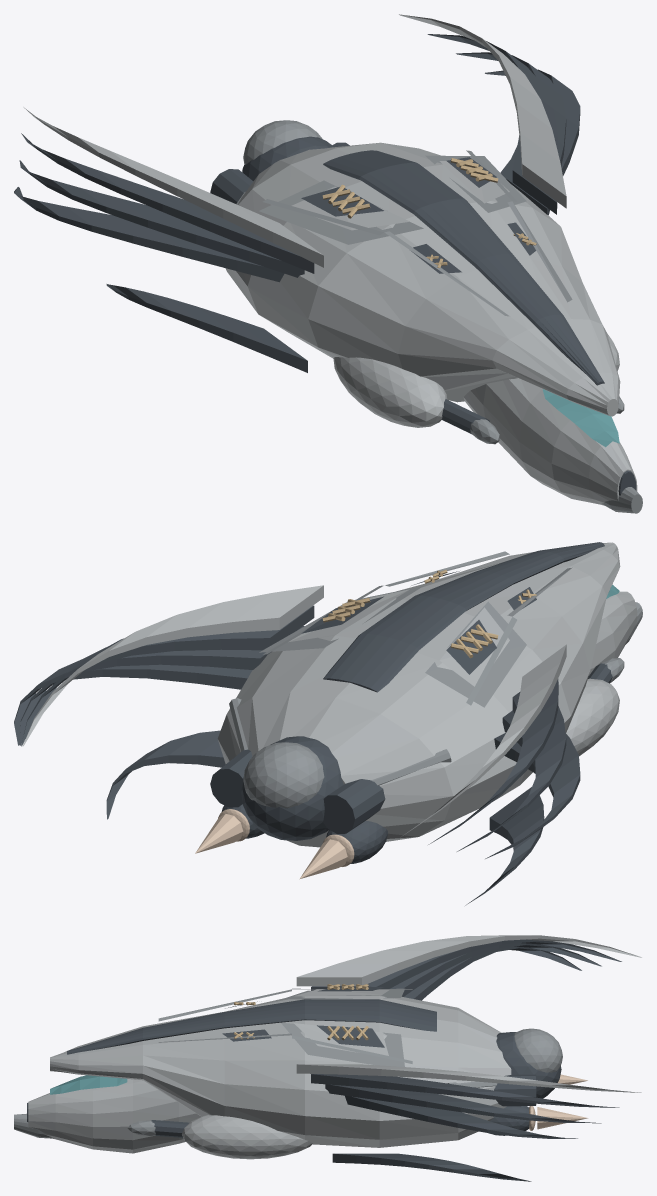
The model's file is thrill_silver_flight.glb.
The picture shows the model from 3 angles, top to bottom: view 1: azimuth 30°, elevation 25°; view 2: azimuth 150°, elevation 25°; view 3: azimuth 270°, elevation 25°; orthographic projection. The views are drawn at different scales.
Parts seen in each view (by area): view 1: hull_0, hull_1, hull_2, wing_R_pivot_blade0, wing_L_pivot_blade0, wing_L_pivot_blade2, wing_L_pivot_blade1, wing_L_pivot_blade3, fin_L_pivot_blade1, wing_R_pivot_blade1, hull_3, wing_R_pivot_blade2 (+2 smaller); view 2: hull_0, hull_1, hull_2, wing_R_pivot_blade0, wing_R_pivot_blade1, wing_R_pivot_blade3, wing_L_pivot_blade0, wing_R_pivot_blade2, hull_5, fin_R_pivot_blade1, fin_L_pivot_blade1, wing_L_pivot_blade1 (+3 smaller); view 3: hull_0, hull_1, hull_2, wing_L_pivot_blade0, wing_R_pivot_blade1, wing_R_pivot_blade0, wing_R_pivot_blade2, wing_R_pivot_blade3, fin_R_pivot_blade1, wing_L_pivot_blade1, wing_L_pivot_blade2, wing_L_pivot_blade3 (+3 smaller).
Part boxes in pixels (x1=…): hull_0: x1=225, y1=142, x2=637, y2=505; hull_1: x1=210, y1=136, x2=636, y2=495; hull_2: x1=236, y1=120, x2=642, y2=513; wing_R_pivot_blade0: x1=399, y1=14, x2=566, y2=208; wing_L_pivot_blade0: x1=23, y1=107, x2=323, y2=267; wing_L_pivot_blade2: x1=19, y1=160, x2=304, y2=277; wing_L_pivot_blade1: x1=21, y1=133, x2=314, y2=273; wing_L_pivot_blade3: x1=14, y1=187, x2=284, y2=282; fin_L_pivot_blade1: x1=106, y1=284, x2=307, y2=372; wing_R_pivot_blade1: x1=427, y1=34, x2=558, y2=214; hull_3: x1=542, y1=389, x2=619, y2=447; wing_R_pivot_blade2: x1=456, y1=52, x2=566, y2=214; hull_0: x1=217, y1=542, x2=637, y2=847; hull_1: x1=210, y1=542, x2=612, y2=863; hull_2: x1=229, y1=551, x2=642, y2=808; wing_R_pivot_blade0: x1=22, y1=585, x2=323, y2=746; wing_R_pivot_blade1: x1=21, y1=605, x2=314, y2=746; wing_R_pivot_blade3: x1=14, y1=660, x2=252, y2=745; wing_L_pivot_blade0: x1=400, y1=644, x2=566, y2=837; wing_R_pivot_blade2: x1=19, y1=626, x2=304, y2=745; hull_5: x1=195, y1=809, x2=354, y2=879; fin_R_pivot_blade1: x1=106, y1=730, x2=225, y2=819; fin_L_pivot_blade1: x1=465, y1=787, x2=544, y2=905; wing_L_pivot_blade1: x1=428, y1=679, x2=558, y2=844; hull_0: x1=28, y1=989, x2=511, y2=1159; hull_1: x1=27, y1=986, x2=561, y2=1137; hull_2: x1=14, y1=988, x2=562, y2=1138; wing_L_pivot_blade0: x1=296, y1=935, x2=641, y2=986; wing_R_pivot_blade1: x1=311, y1=1074, x2=619, y2=1107; wing_R_pivot_blade0: x1=296, y1=1064, x2=641, y2=1092; wing_R_pivot_blade2: x1=325, y1=1084, x2=601, y2=1123; wing_R_pivot_blade3: x1=345, y1=1095, x2=577, y2=1138; fin_R_pivot_blade1: x1=332, y1=1153, x2=531, y2=1181; wing_L_pivot_blade1: x1=311, y1=939, x2=621, y2=990; wing_L_pivot_blade2: x1=390, y1=943, x2=601, y2=996; wing_L_pivot_blade3: x1=404, y1=946, x2=581, y2=1000.
Size of the model in its own units: 3.07 by 1.12 by 4.39.
